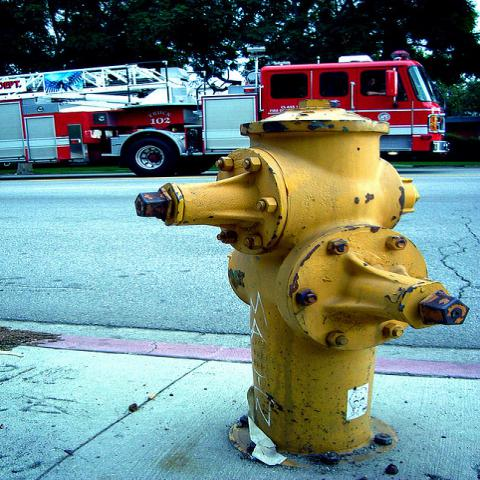truck: (6, 55, 445, 171)
